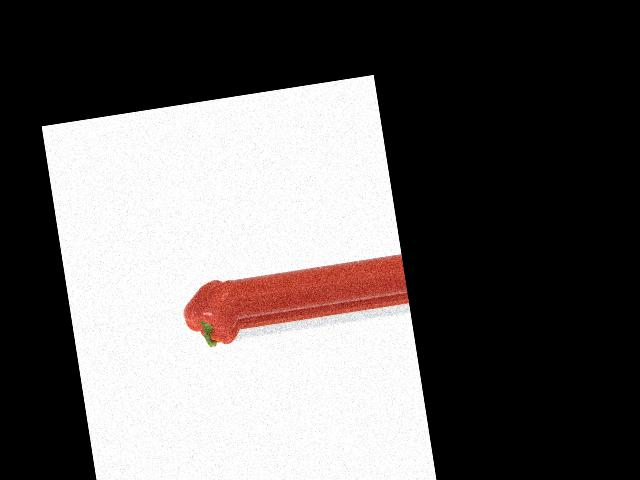bell_pepper: (177, 270, 243, 359)
